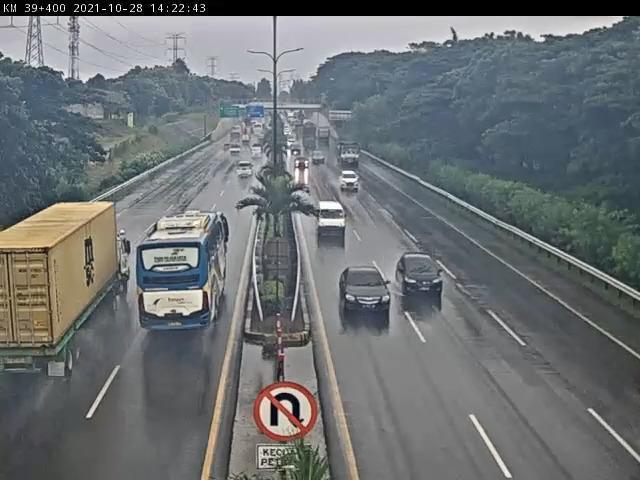bus: (141, 209, 234, 338)
car: (337, 262, 394, 317), (396, 251, 446, 301), (313, 199, 349, 240), (338, 170, 362, 192), (238, 162, 257, 181), (310, 150, 328, 168), (295, 156, 311, 171)
truck: (2, 201, 129, 382)
